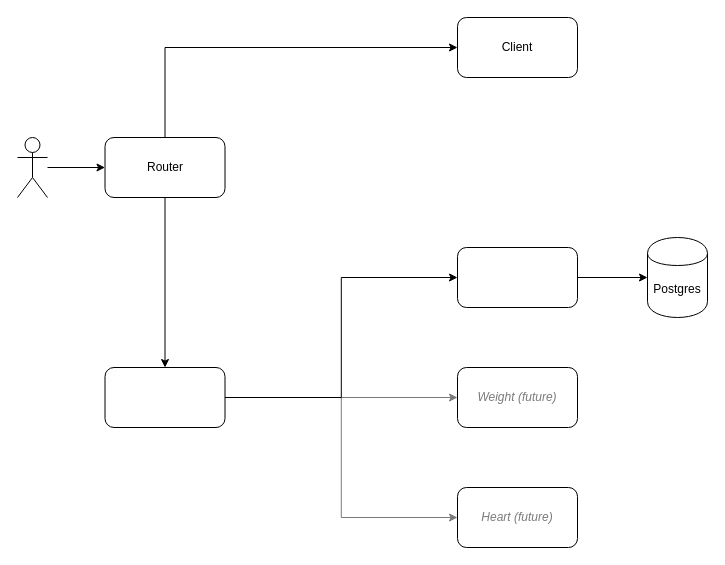
This 725x565 diagram has some shape labels left out. Each missing label, with the box of its shape:
Exercise: (456, 246, 578, 308)
Gateway: (104, 366, 225, 428)
User: (16, 136, 48, 198)
